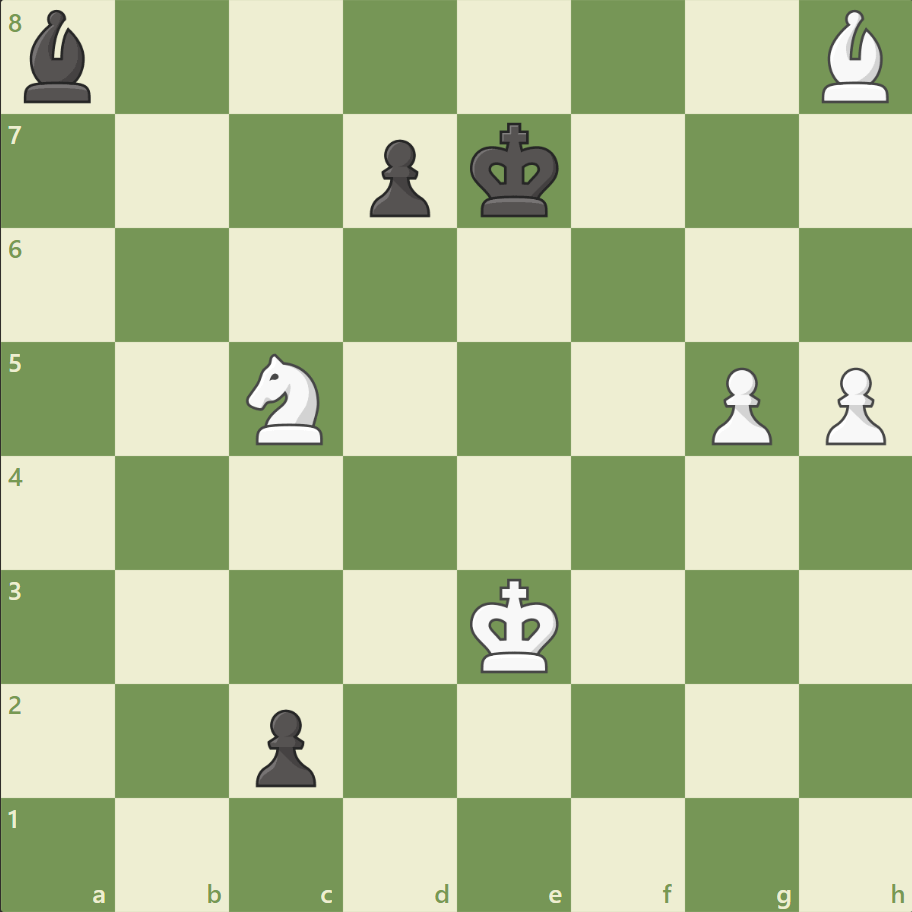B: (812, 6, 896, 109)
K: (465, 571, 565, 679)
N: (238, 348, 335, 450)
P: (701, 359, 776, 450), (815, 359, 889, 450)
b: (17, 6, 101, 109)
k: (465, 117, 565, 225)
p: (247, 700, 322, 791), (361, 132, 435, 223)
